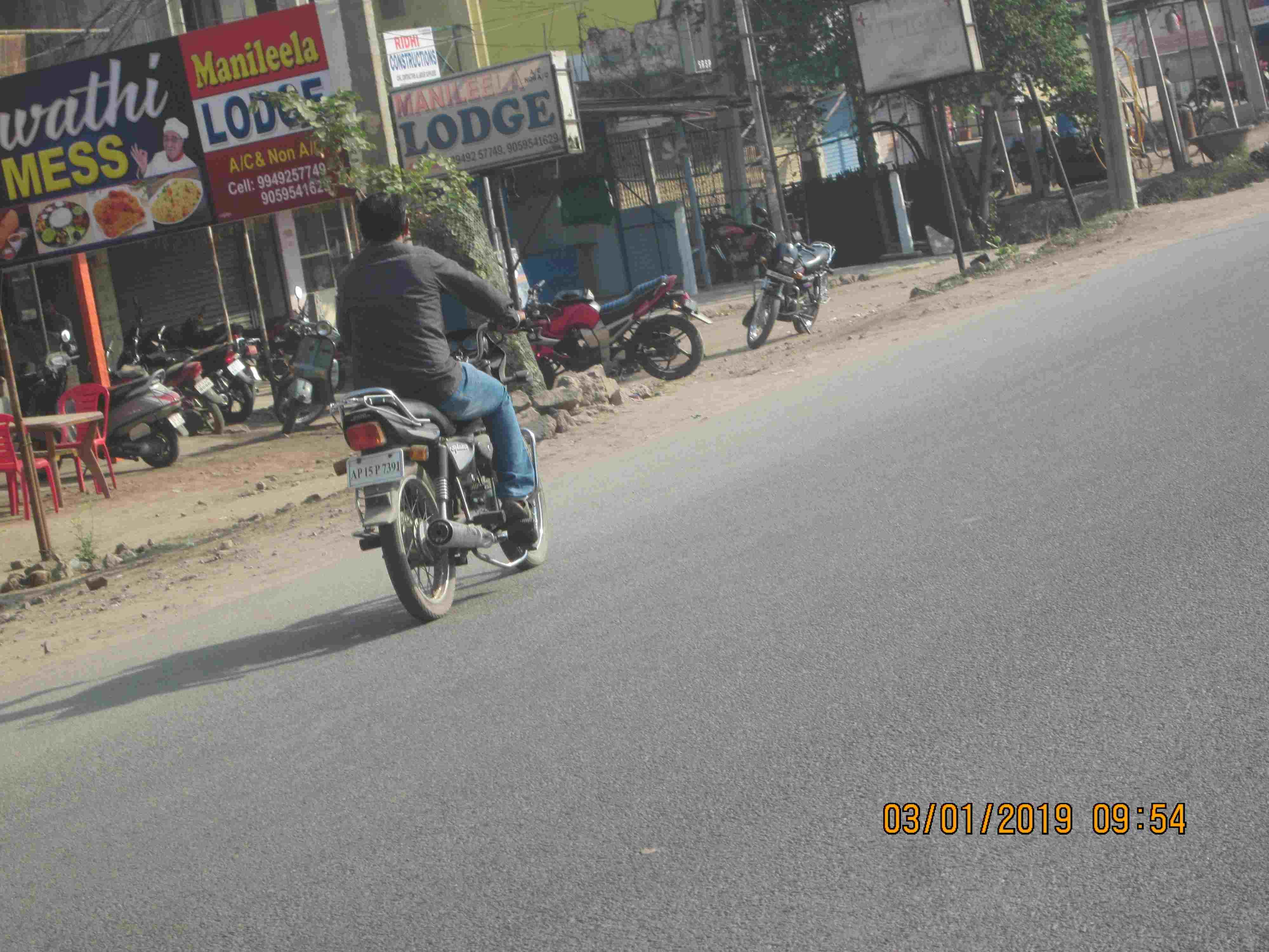plate: (334, 449, 412, 489)
